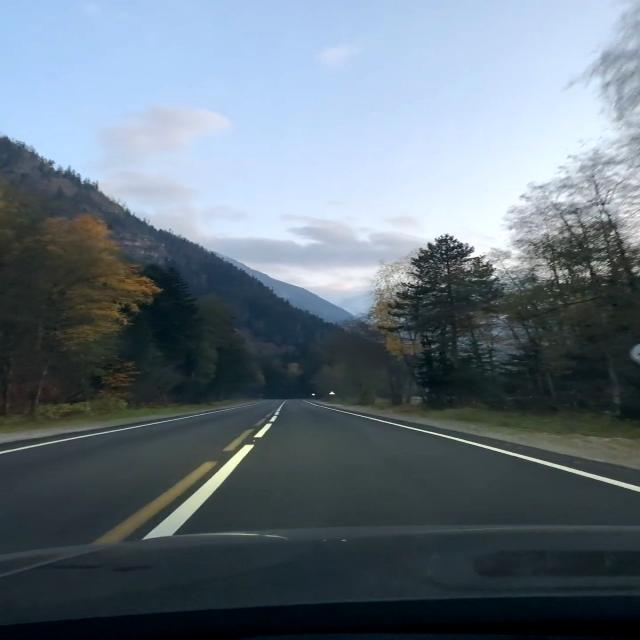lane: (149, 444, 253, 537)
road: (3, 400, 637, 640)
